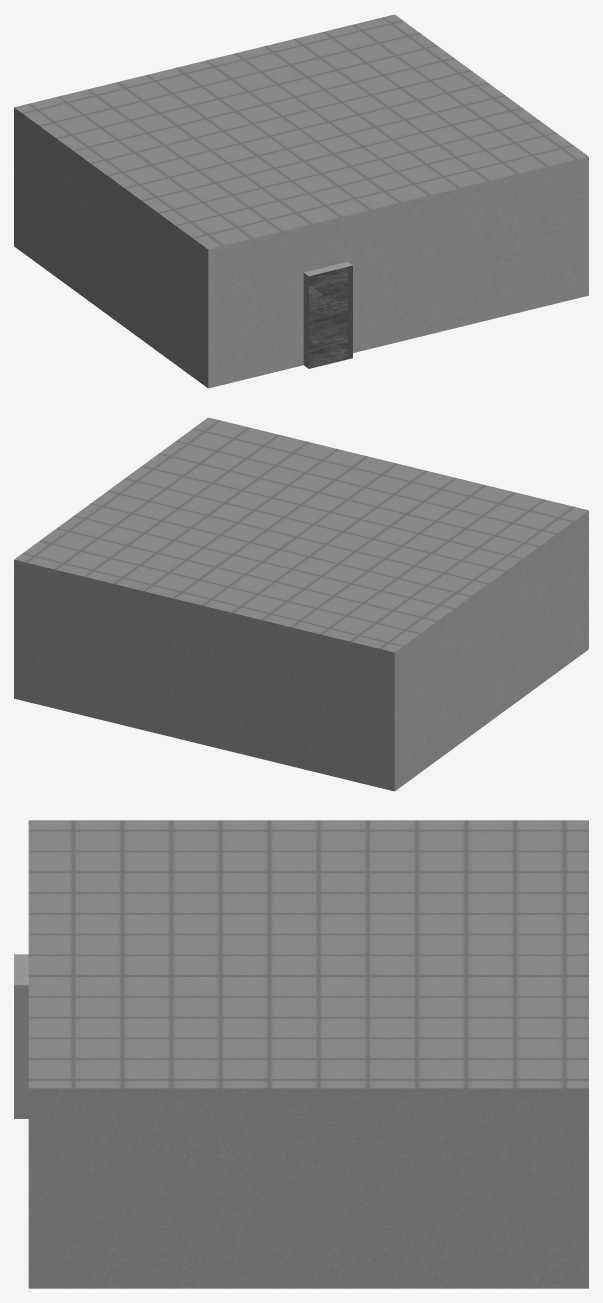
The model's file is Vestiaire.fbx.
3 renders of one model, top to bottom at view 1: azimuth 30°, elevation 25°; view 2: azimuth 150°, elevation 25°; view 3: azimuth 270°, elevation 25°, orthographic. The views are drawn at different scales.
Visible parts, largest first — view 1: Vestiaires; view 2: Vestiaires; view 3: Vestiaires.
Boxes of the visible parts, x1,y1,x2,y2 form: Vestiaires: [14, 14, 588, 388]; Vestiaires: [14, 417, 588, 791]; Vestiaires: [14, 820, 588, 1288].
Size of the model in its own units: 860 by 300 by 780.
